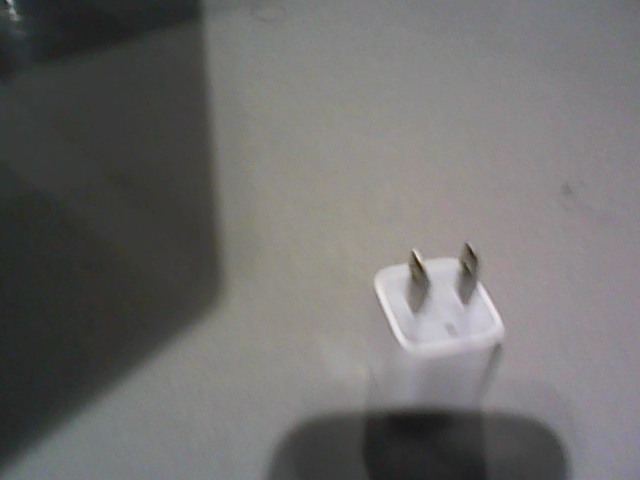charger: (371, 243, 505, 414)
